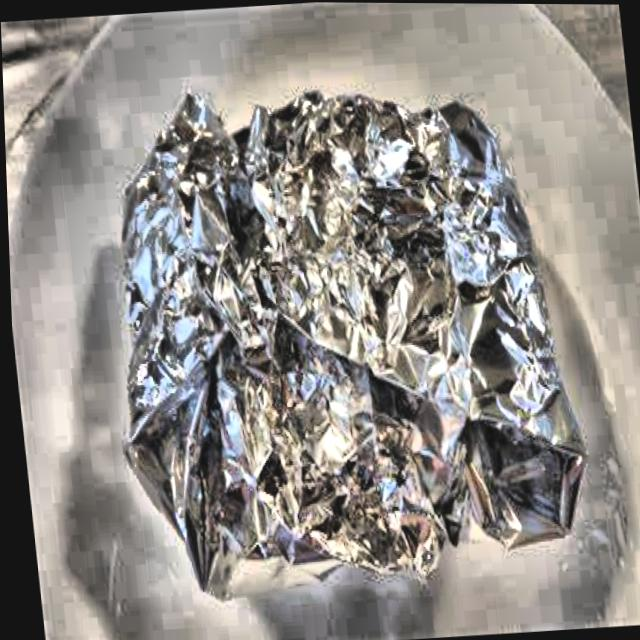Foil: (87, 60, 593, 612)
